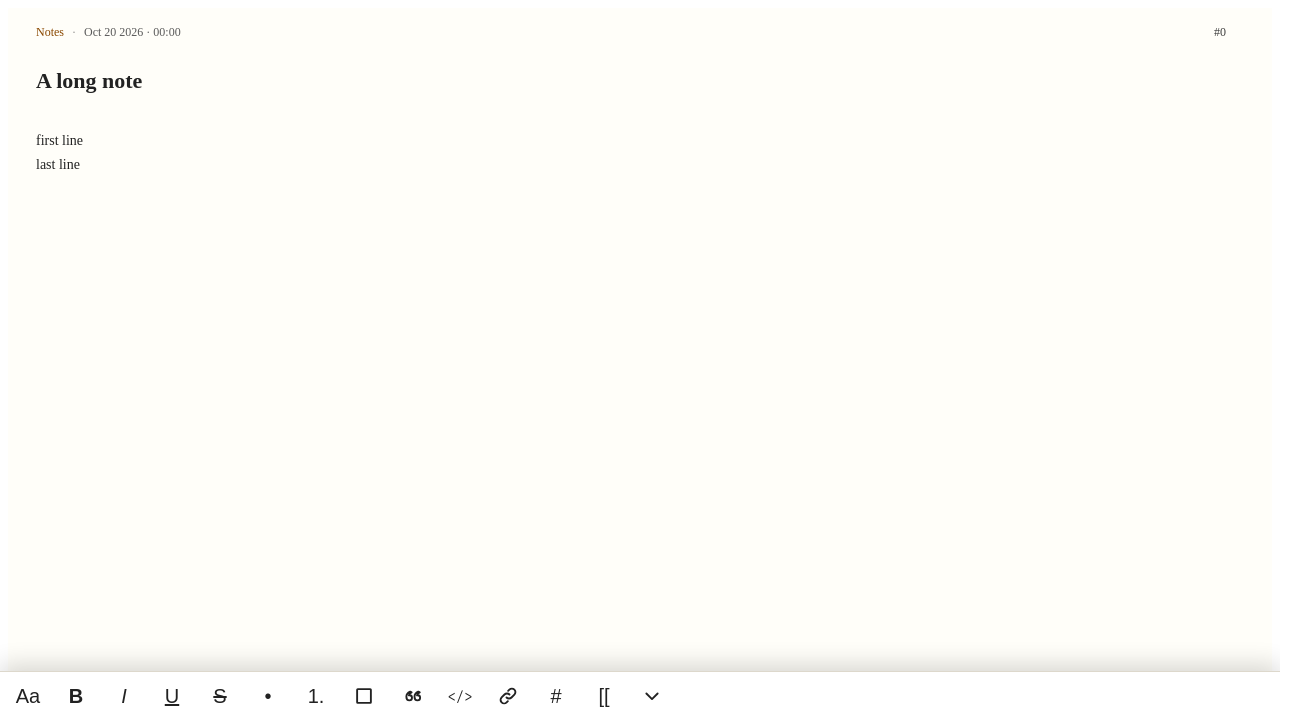
it: NoteEditor format bar — phone › dismiss blurs the editor and the bar goes
Click the button named "Hide keyboard" at (652, 696), box [628,672,676,719]
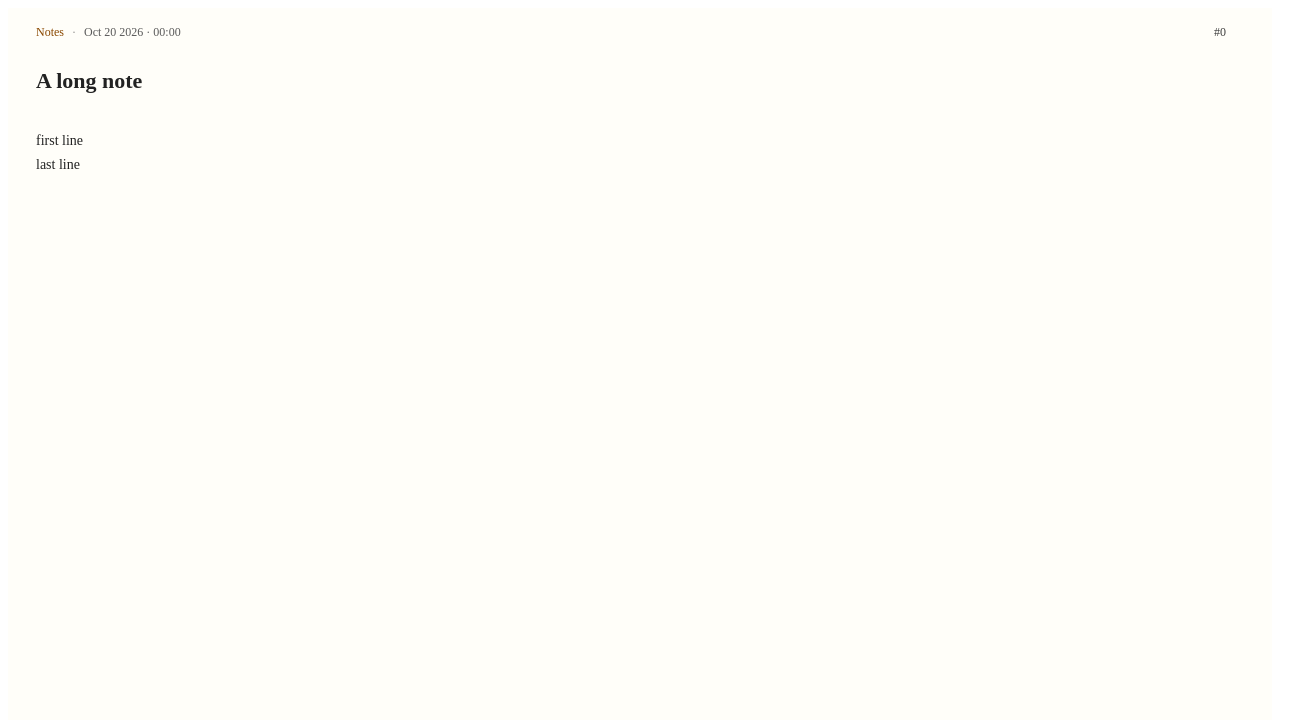
Now the element with test id "format-bar" is gone
